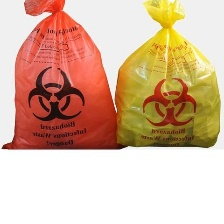plastic_bag: (0, 0, 133, 154), (110, 0, 224, 150)
